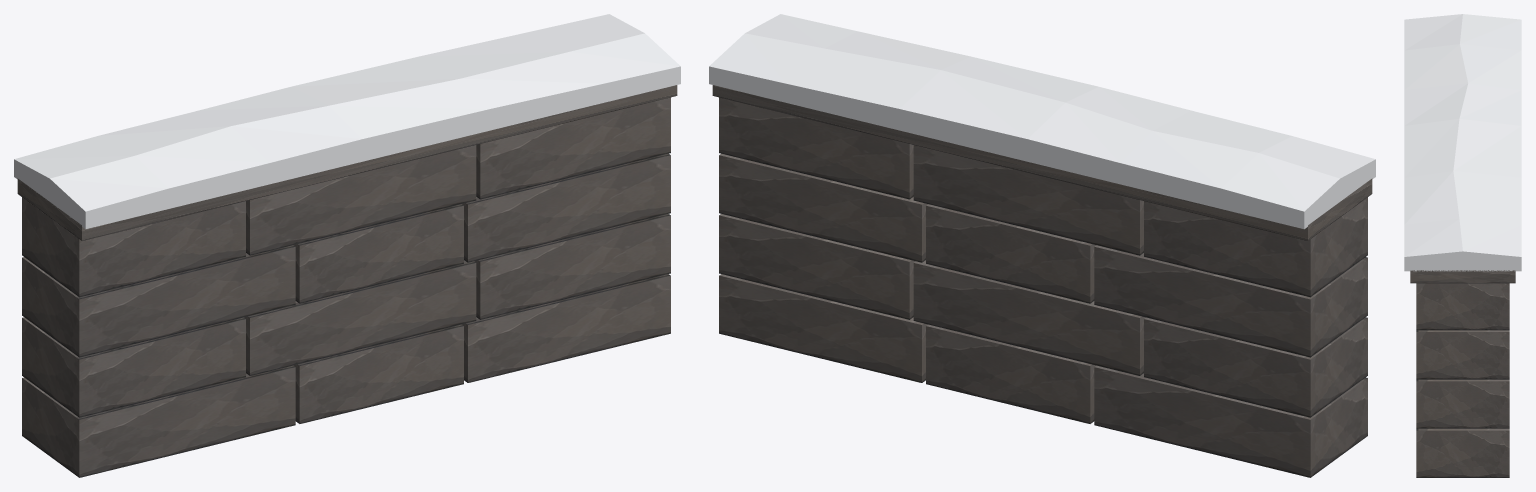
The model's file is stone_wall_snow.glb.
3 views of the same model, side by side, from view 1: azimuth 30°, elevation 25°; view 2: azimuth 150°, elevation 25°; view 3: azimuth 270°, elevation 25° (orthographic). The views are drawn at different scales.
Visible parts, largest first — view 1: winter_stone_wall_snow; view 2: winter_stone_wall_snow; view 3: winter_stone_wall_snow.
Boxes of the visible parts, box(x1,y1,x2,y2) form: winter_stone_wall_snow: box(14, 14, 680, 477); winter_stone_wall_snow: box(709, 14, 1375, 477); winter_stone_wall_snow: box(1404, 14, 1521, 477).
Size of the model in its own units: 2.4 by 1.1 by 0.5.
2 materials, 1 textured.
